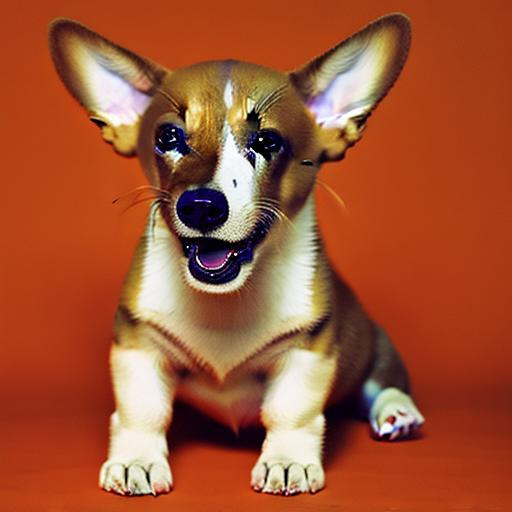eye: (155, 119, 190, 155), (248, 127, 286, 159)
